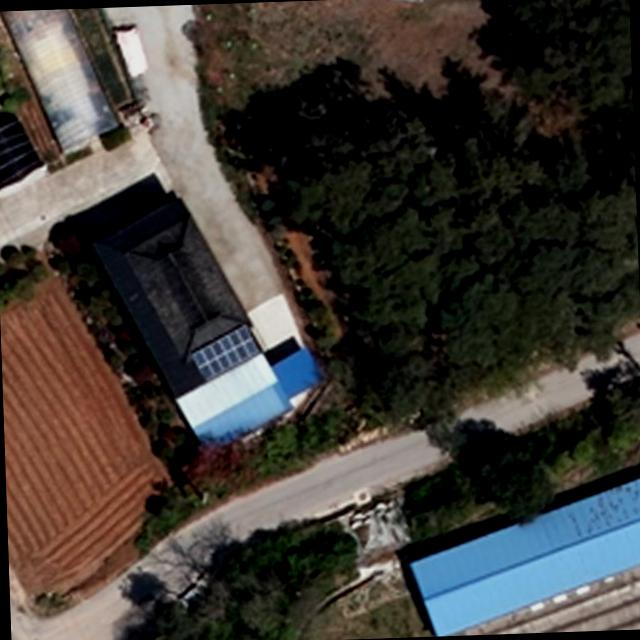solar: (187, 321, 264, 384)
